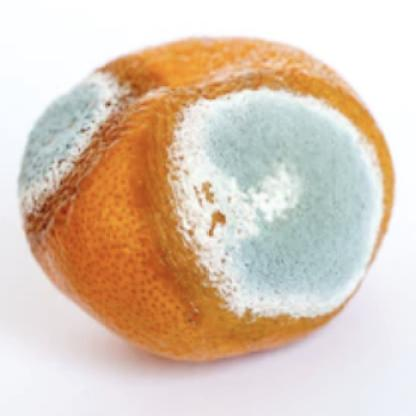rotten: (15, 36, 392, 363)
